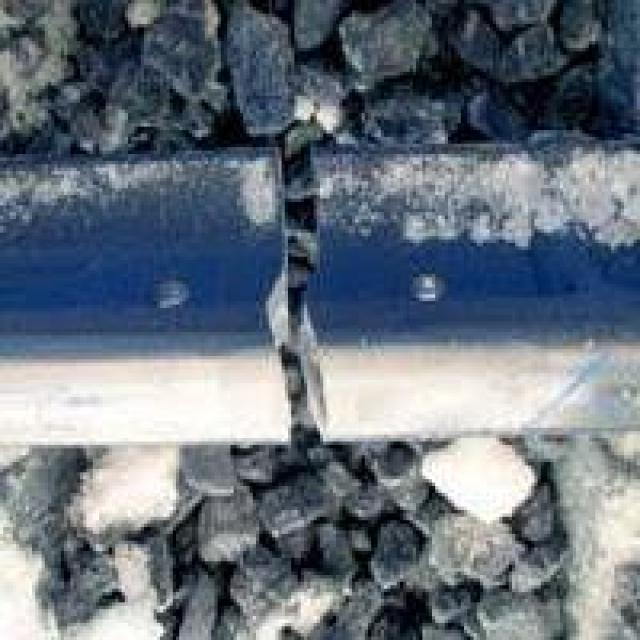broken_rail_high: (252, 143, 364, 444)
